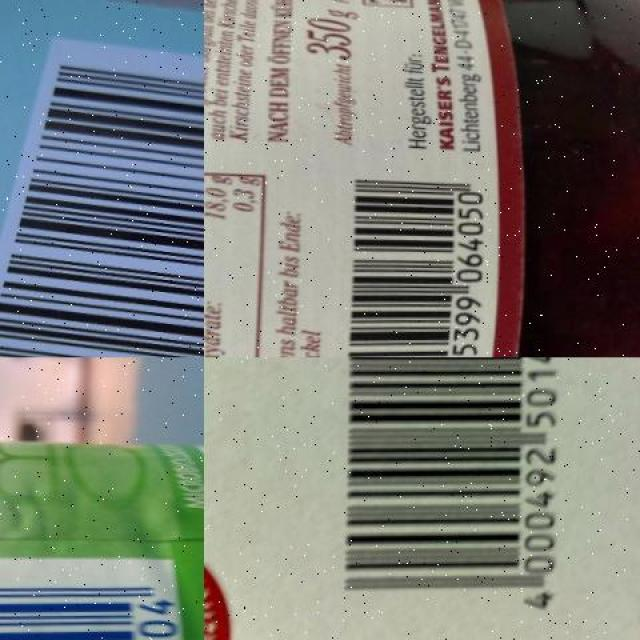Barcode: (319, 357, 576, 620), (0, 32, 204, 357), (328, 164, 497, 357), (0, 553, 191, 640)
